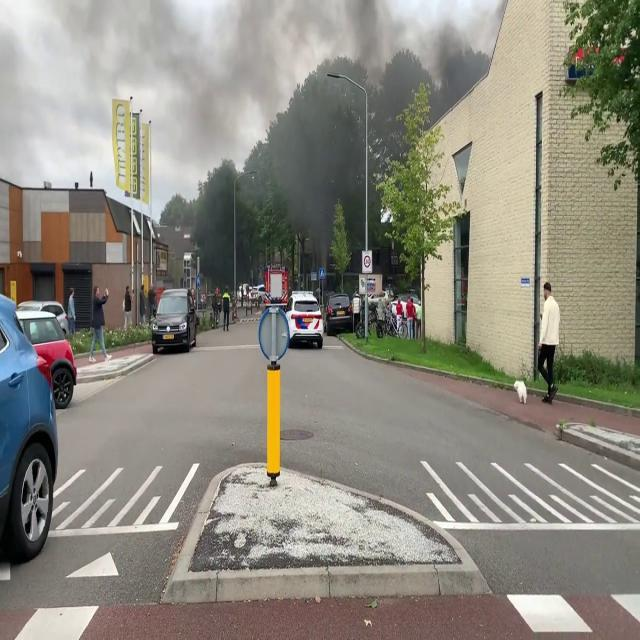Smoke: (176, 0, 390, 255)
